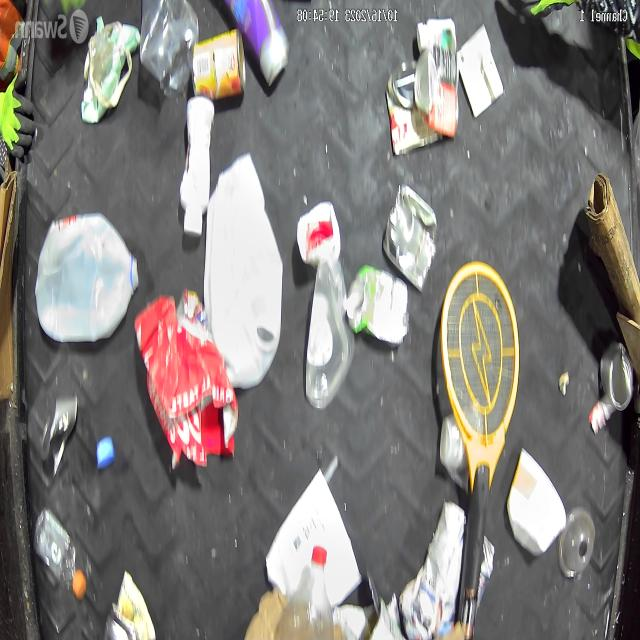can: (382, 182, 441, 300), (383, 55, 441, 164), (410, 39, 462, 145), (187, 26, 251, 109), (596, 341, 638, 423)
milk_jug: (199, 145, 285, 391), (30, 205, 138, 346)
non_white_jug: (223, 0, 288, 91)
plastic_bottle: (272, 538, 334, 640), (30, 506, 86, 604)
